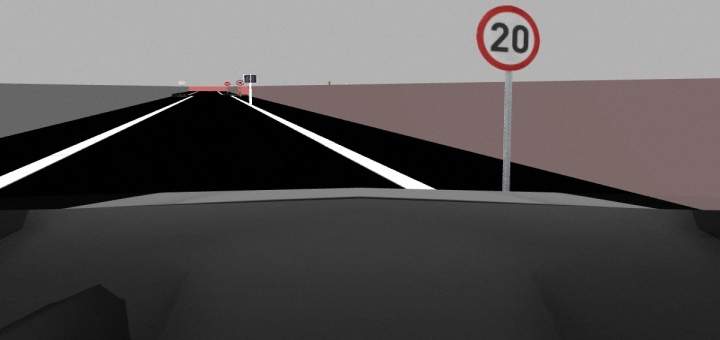hiz_20: (475, 6, 546, 73)
